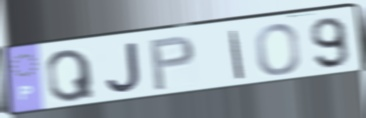9: (308, 16, 352, 70)
I: (228, 29, 246, 81)
J: (104, 40, 143, 95)
O: (254, 21, 303, 77)
P: (147, 33, 197, 93)
Q: (44, 47, 98, 104)
